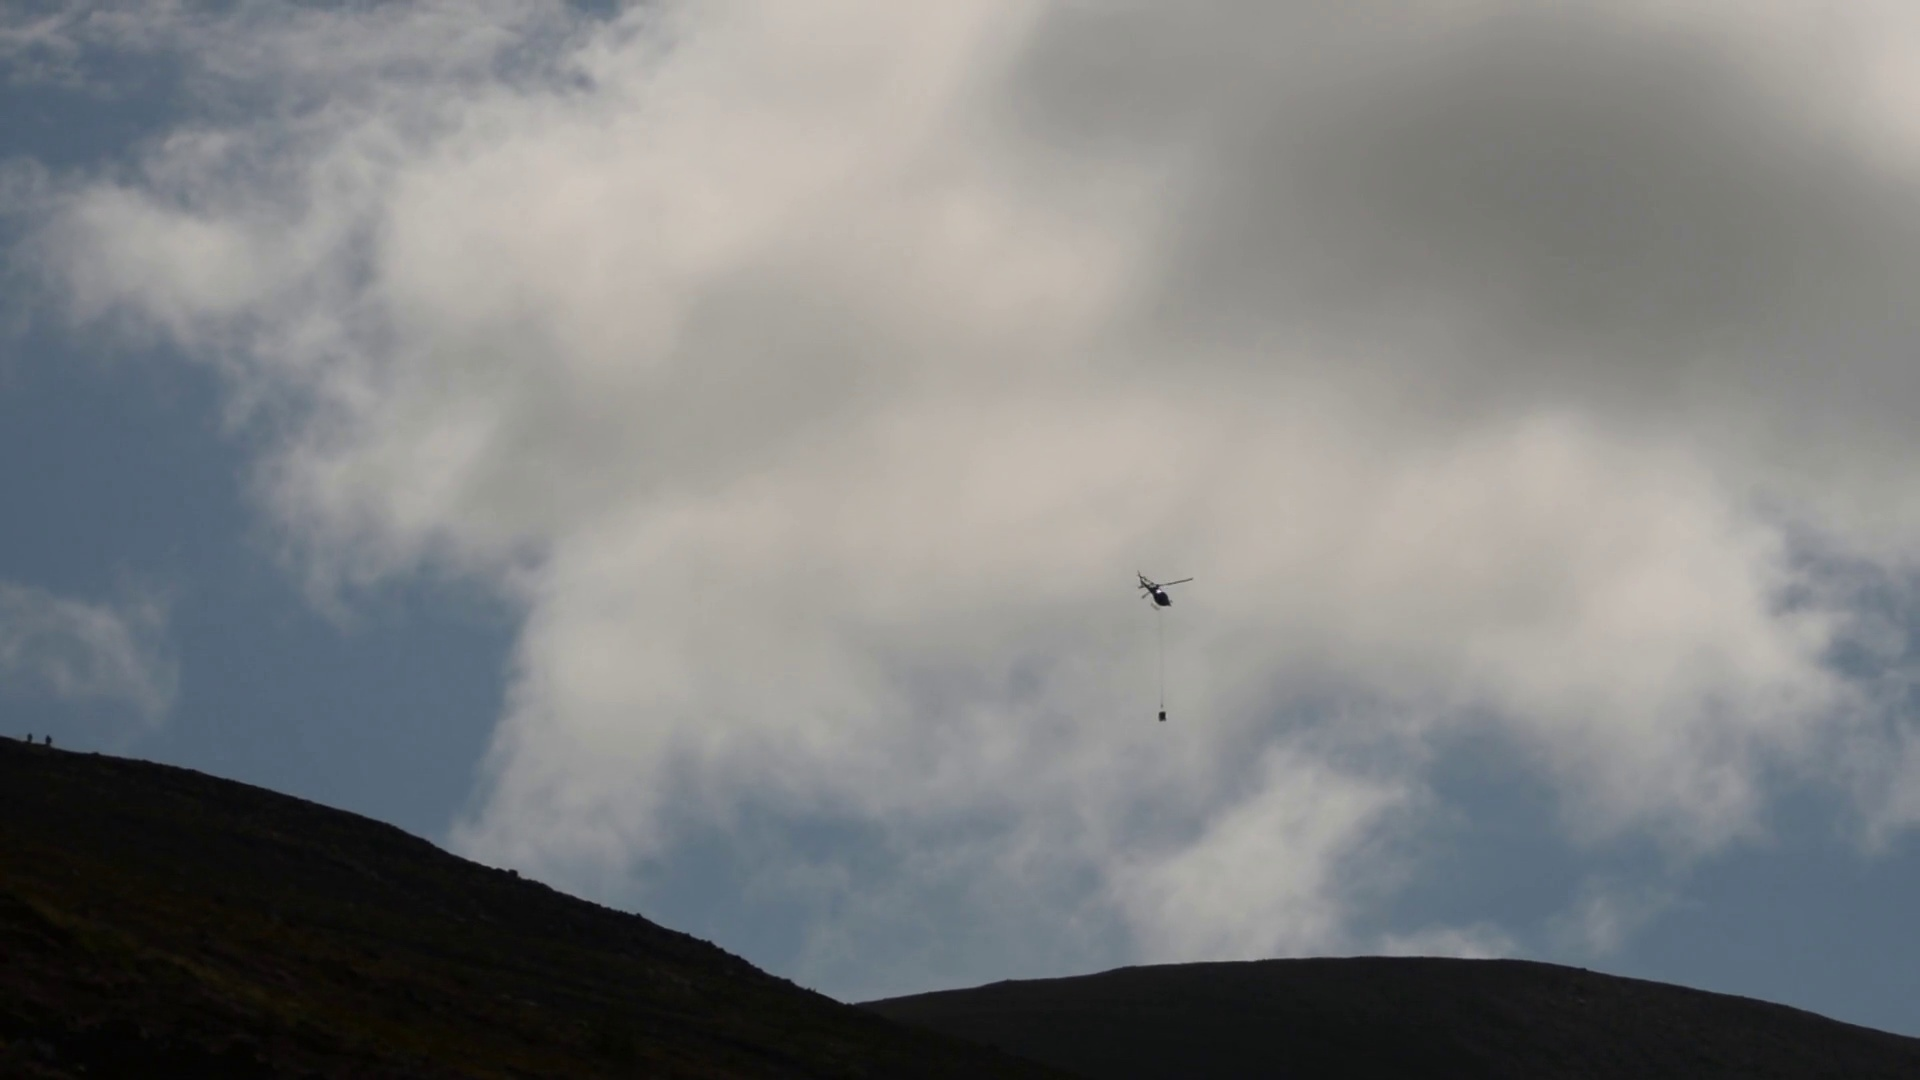heli: (1131, 570, 1197, 611)
